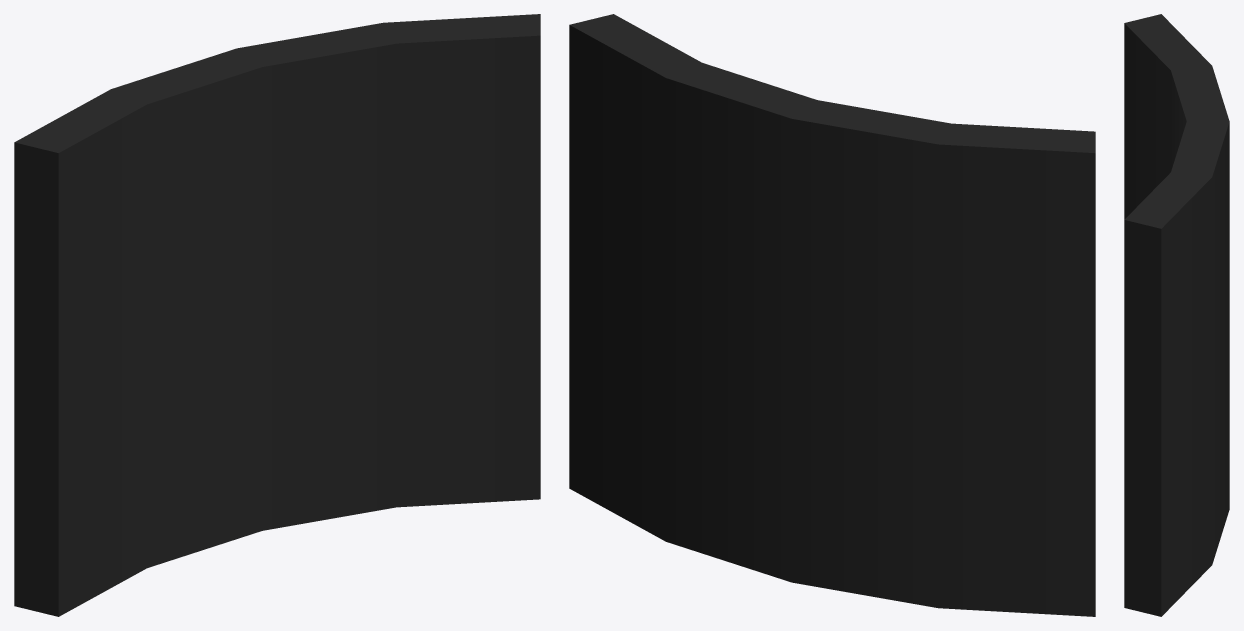
File: aquila_active_radiator_srf_2.obj
3 renders of one model, left to right at view 1: azimuth 30°, elevation 25°; view 2: azimuth 150°, elevation 25°; view 3: azimuth 270°, elevation 25°, orthographic. The views are drawn at different scales.
Parts seen in each view (by area): view 1: aquila_active_radiator_srf_2; view 2: aquila_active_radiator_srf_2; view 3: aquila_active_radiator_srf_2.
Part boxes in pixels (left/top/right/bottom): aquila_active_radiator_srf_2: left=14, top=14, right=540, bottom=616; aquila_active_radiator_srf_2: left=569, top=14, right=1095, bottom=616; aquila_active_radiator_srf_2: left=1124, top=14, right=1229, bottom=616.
Size of the model in its own units: 1.19 by 1 by 0.2457.
